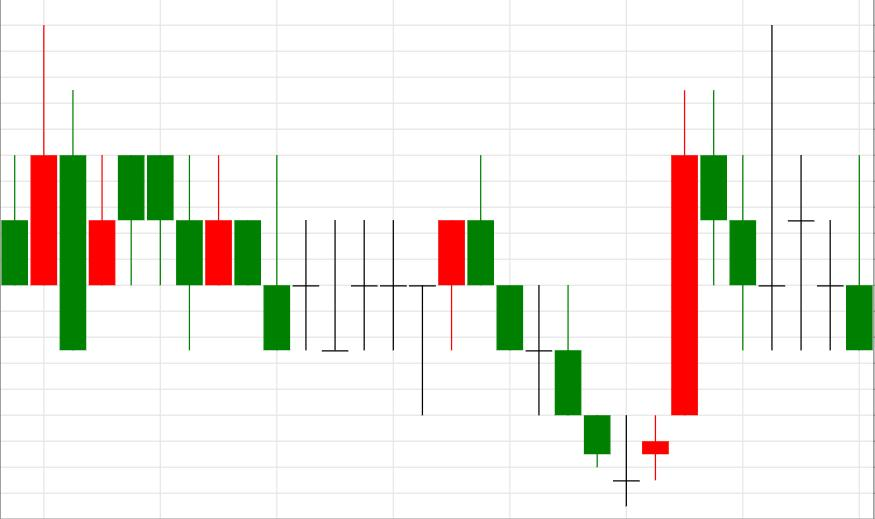morning_star_rise: (467, 155, 669, 506)
